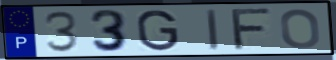3: (89, 8, 130, 54), (43, 10, 80, 54)
F: (230, 7, 275, 52)
G: (135, 9, 181, 53)
I: (205, 8, 221, 52)
O: (278, 7, 322, 50)
